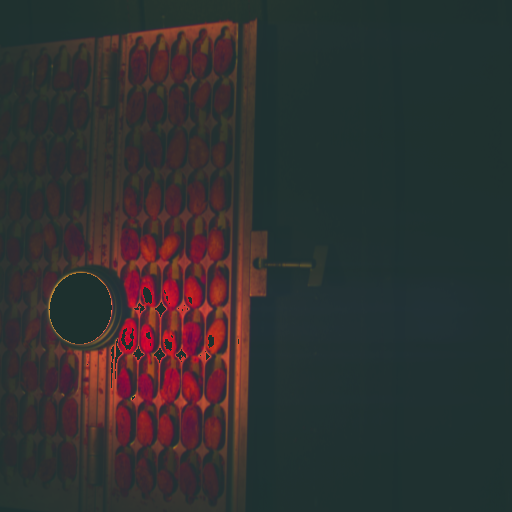bueno: (134, 457, 153, 495), (146, 132, 164, 170), (161, 367, 181, 401), (183, 321, 203, 354), (49, 142, 68, 174), (65, 223, 82, 257), (122, 227, 138, 261), (130, 51, 147, 83), (124, 271, 139, 306), (73, 59, 90, 89), (41, 367, 59, 395), (22, 360, 39, 389), (138, 372, 155, 399), (37, 457, 55, 482), (118, 368, 133, 398), (61, 363, 74, 394), (3, 321, 19, 345)
malo: (167, 129, 187, 167), (204, 463, 225, 499), (190, 133, 210, 170), (206, 367, 227, 402), (212, 175, 232, 211), (188, 180, 207, 215), (137, 409, 155, 445), (119, 317, 138, 351), (140, 273, 159, 305), (47, 180, 63, 218), (170, 90, 188, 123), (163, 277, 181, 309), (186, 274, 203, 307), (145, 182, 161, 217), (188, 233, 207, 262), (182, 371, 201, 400), (140, 323, 158, 353), (205, 415, 223, 445), (32, 98, 47, 134), (31, 141, 47, 174), (151, 50, 168, 81), (7, 189, 24, 220), (191, 51, 210, 78), (34, 54, 50, 86), (157, 469, 175, 497), (217, 85, 233, 116), (42, 402, 57, 435), (171, 53, 189, 79), (125, 145, 142, 172), (213, 141, 230, 167), (193, 83, 210, 108), (53, 68, 71, 90), (12, 143, 27, 169), (70, 148, 84, 174), (16, 104, 30, 127), (23, 268, 36, 292), (5, 355, 18, 378), (16, 73, 31, 92), (44, 271, 55, 288), (44, 329, 52, 340)
parcial: (180, 461, 199, 501), (182, 405, 199, 449), (214, 39, 235, 74), (206, 318, 227, 353), (209, 269, 228, 305), (115, 405, 132, 445), (140, 232, 160, 264), (115, 452, 131, 492), (165, 183, 184, 216), (157, 413, 176, 446), (128, 92, 146, 126), (147, 91, 165, 125), (70, 177, 86, 212), (62, 399, 78, 434), (60, 444, 76, 479), (123, 185, 141, 216), (162, 233, 183, 259), (73, 93, 89, 127), (211, 227, 227, 260), (52, 101, 69, 131), (28, 189, 45, 219), (22, 404, 36, 433), (162, 328, 177, 353), (45, 223, 60, 248), (3, 402, 15, 431), (29, 235, 42, 259), (31, 319, 42, 339)
